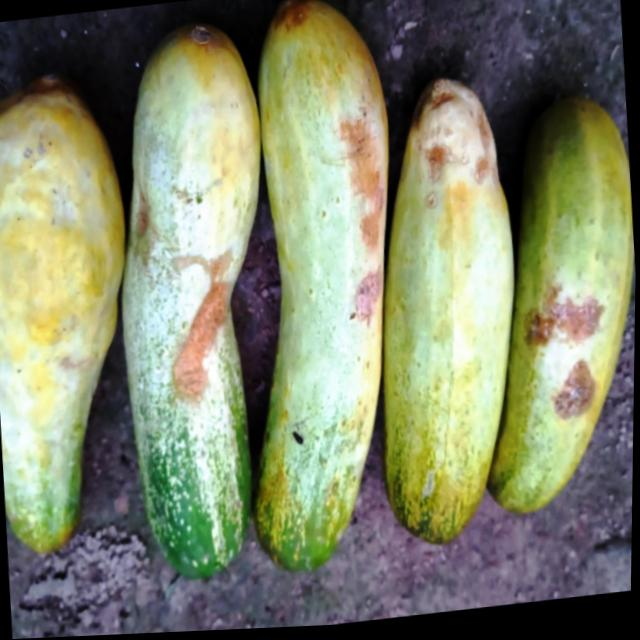Belly-Rot: (329, 102, 400, 338), (512, 275, 616, 433), (161, 244, 248, 408), (406, 85, 504, 220), (121, 170, 163, 268)
